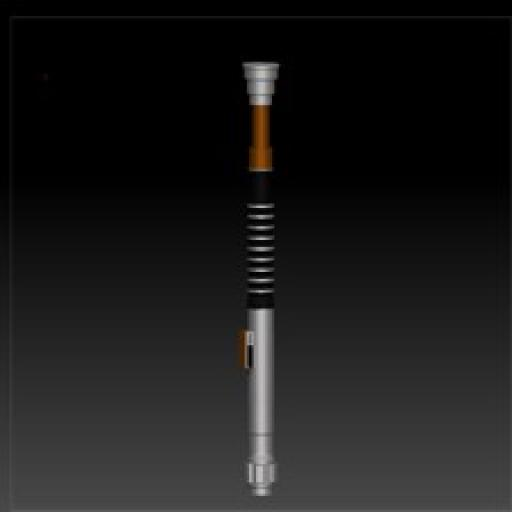lightsaber: (235, 54, 284, 498)
